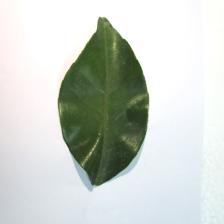healthy: (67, 22, 144, 182)
